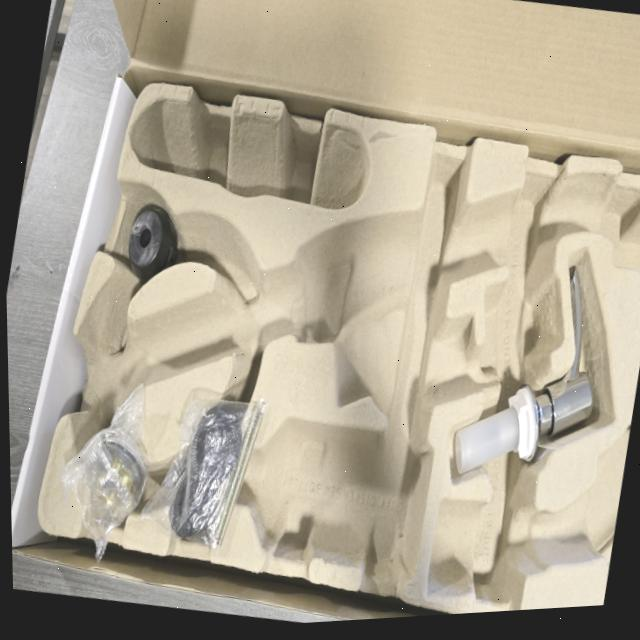1m: (64, 170, 640, 412), (427, 428, 630, 593)
2: (455, 263, 593, 473)
3m: (220, 417, 434, 575)
4m: (131, 100, 369, 211)
5: (129, 204, 176, 279)
6: (60, 376, 147, 563)
7: (141, 385, 266, 550)
